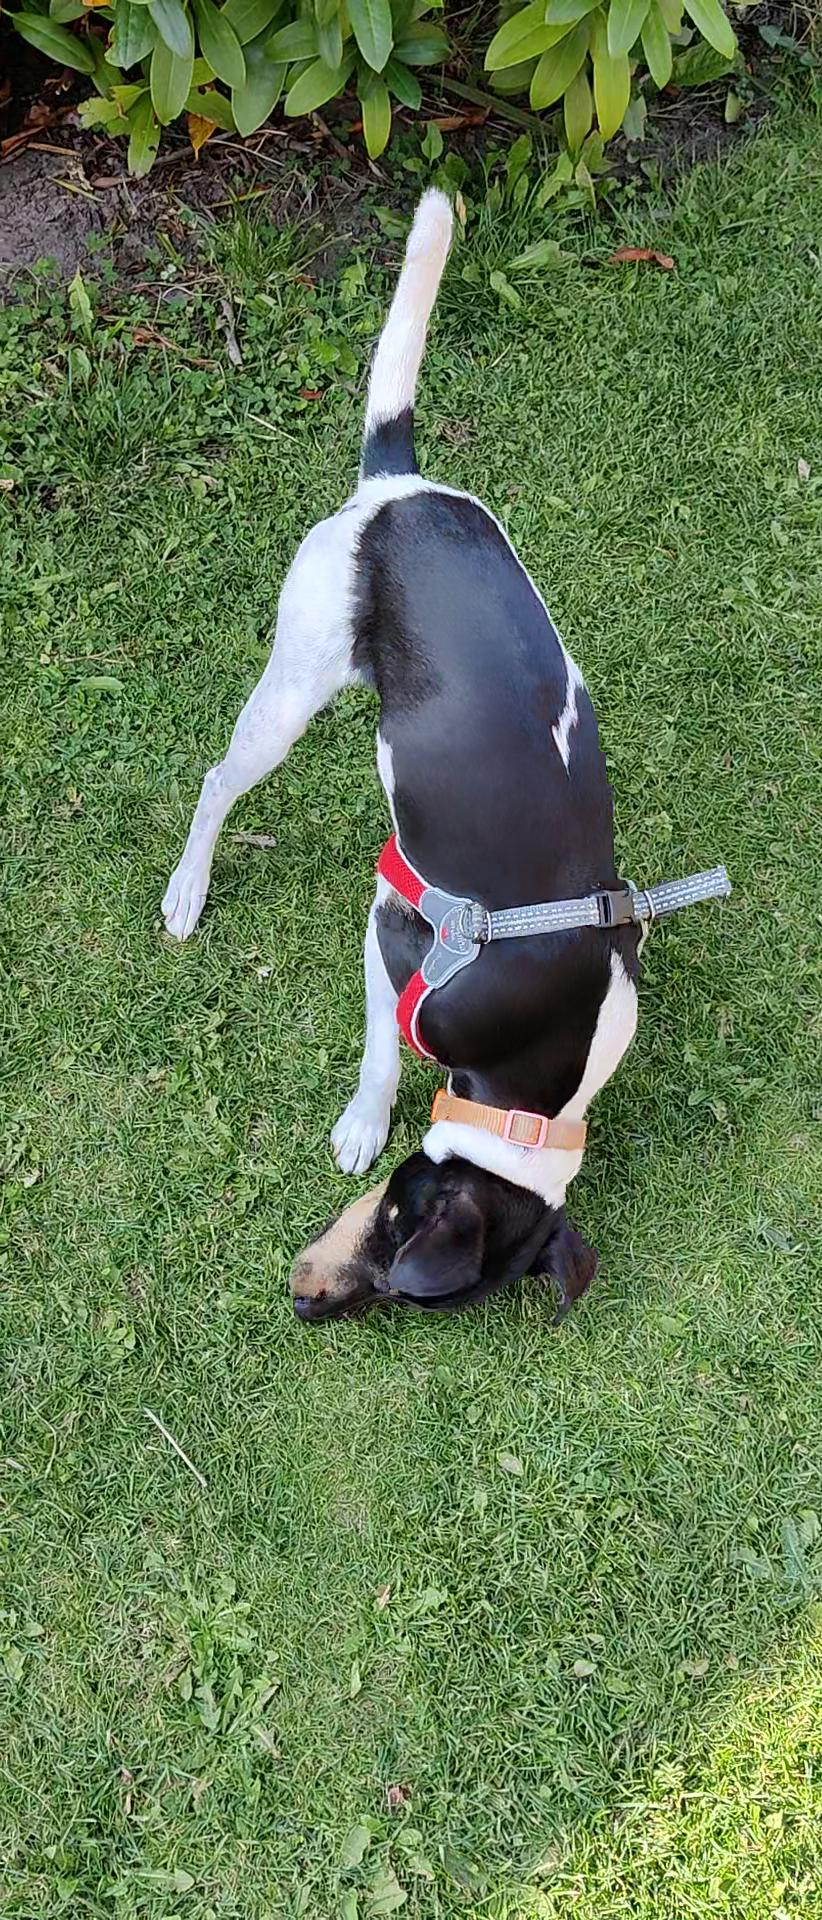Dog: (140, 178, 690, 1356)
